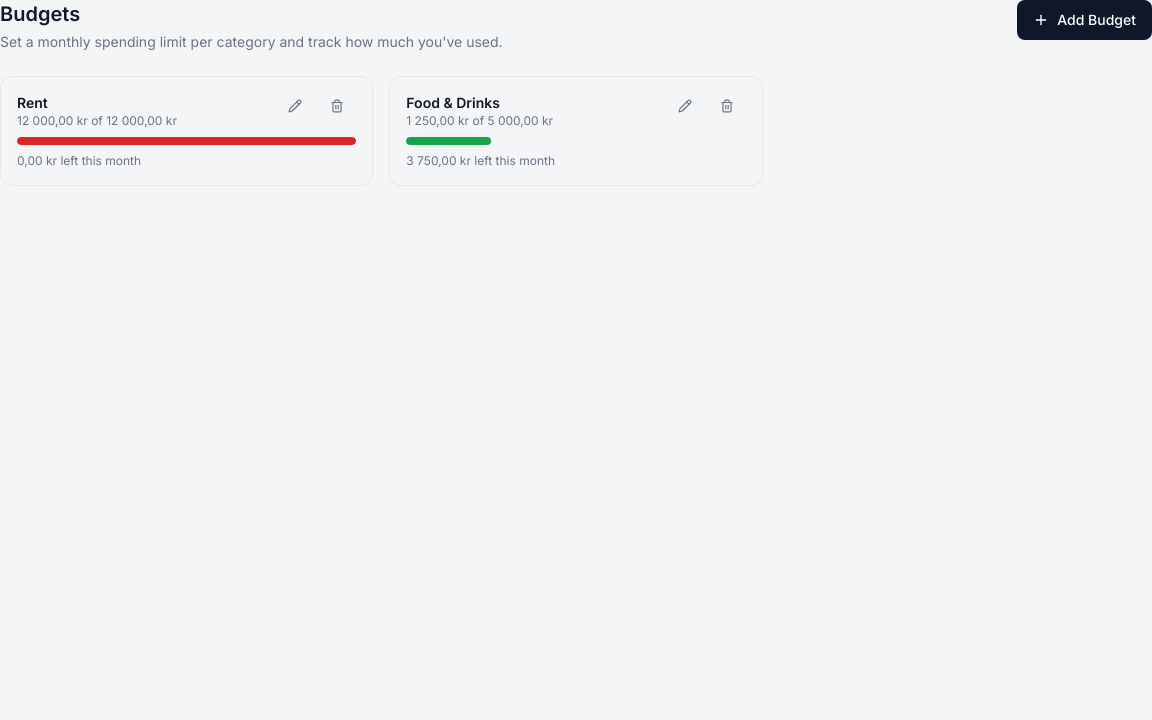
Test: BudgetsPage › does not delete when the confirmation is cancelled
Expected: the text "Rent" is shown, [17,94,48,111]
Note: Each card renders an edit then a delete button after the header's "Add Budget".
Click the 3rd button at (337,106), box [318,93,356,119]
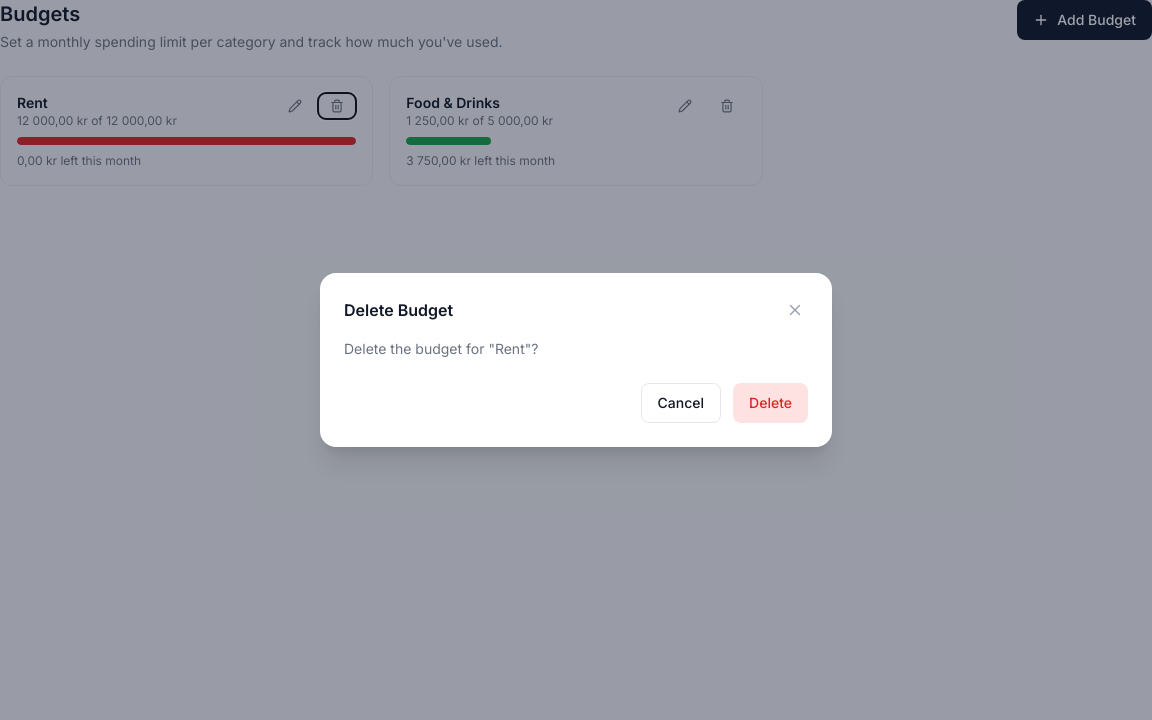
Expected: the text "Delete the budget for \"Rent\"?" is shown, [344,340,538,357]
Click the button "Cancel" at (681,403), box [641,383,721,423]
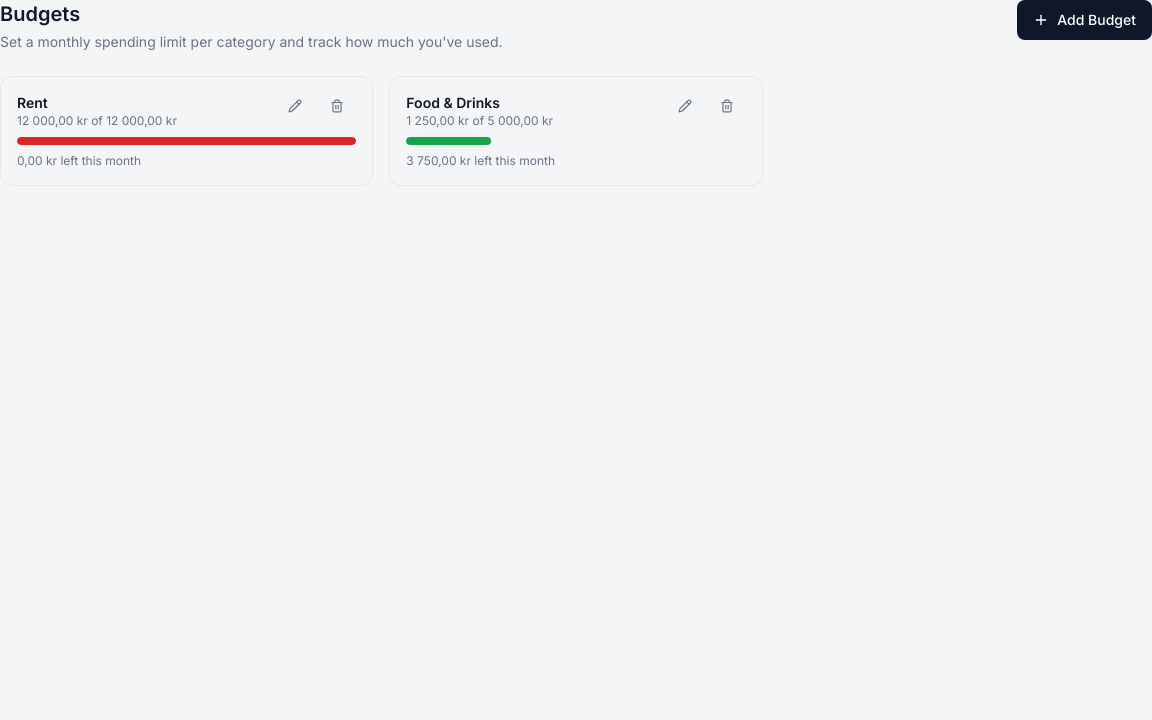
Expected: the text "Delete the budget for \"Rent\"?" is gone
